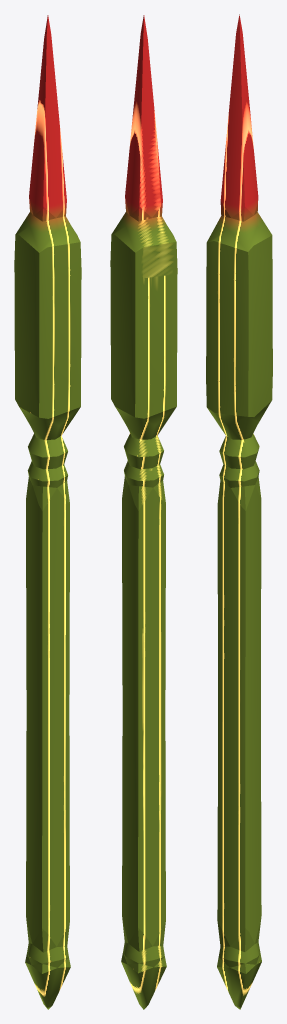
The model's file is Weapon.glb.
3 renders of one model, left to right at view 1: azimuth 30°, elevation 25°; view 2: azimuth 210°, elevation 25°; view 3: azimuth 330°, elevation 25°, orthographic.
Visible parts, largest first — view 1: Cube.006; view 2: Cube.006; view 3: Cube.006.
Boxes of the visible parts, x1=… form: Cube.006: x1=14, y1=15, x2=81, y2=1009; Cube.006: x1=110, y1=15, x2=177, y2=1009; Cube.006: x1=206, y1=14, x2=272, y2=1009.
Size of what is drawn, in the model's own units: 0.0878 by 1.83 by 0.0873.
Materials: 1 (1 with a texture image).
